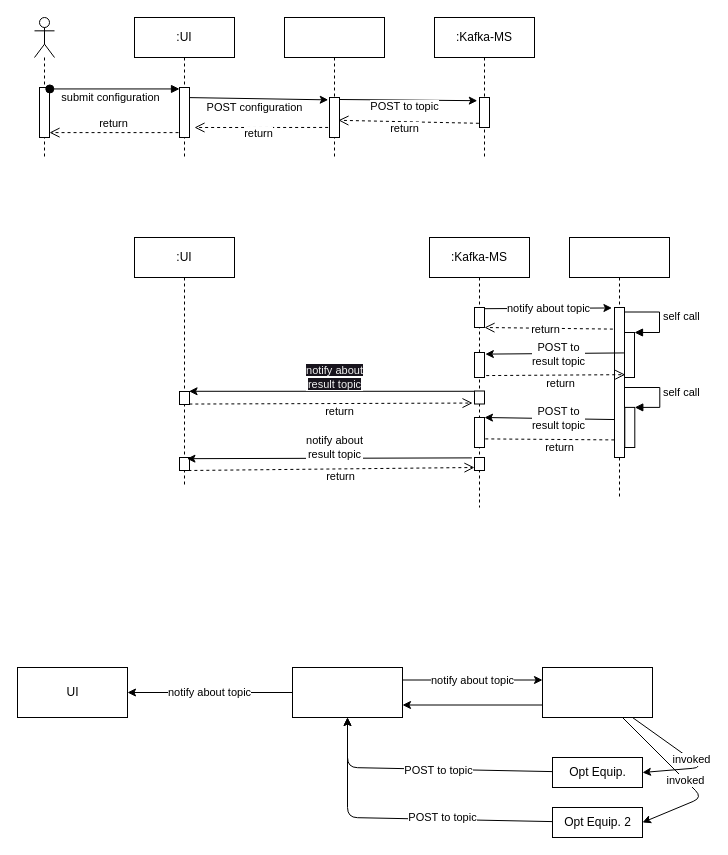
The diagram is 728 pixels wide and 855 high, and some of its shapes have lost their labels. The shapes that lost their labels are listed below. From the top down, each one's centre as x and y in pixels, then its label:
[334,87]: :Circuit Breaker
[619,367]: :Algorithm Komp.
[347,692]: Config-Skipper
[597,692]: Alg Komp
